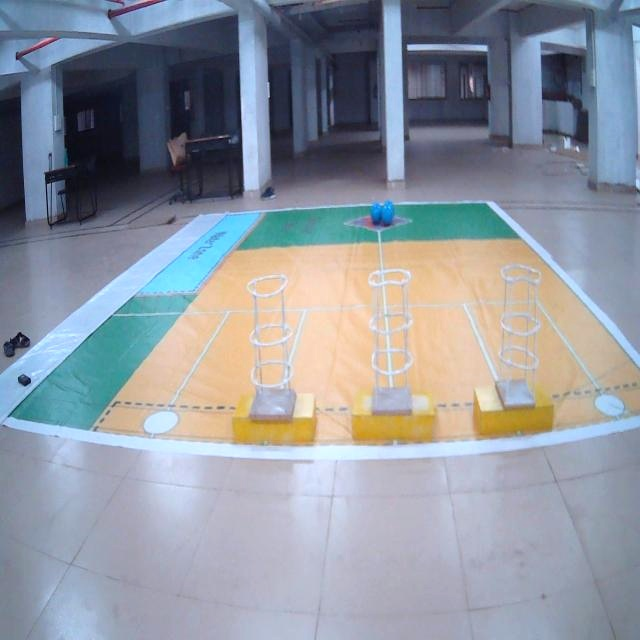silo: (244, 273, 295, 424), (368, 267, 414, 420), (500, 261, 538, 408)
